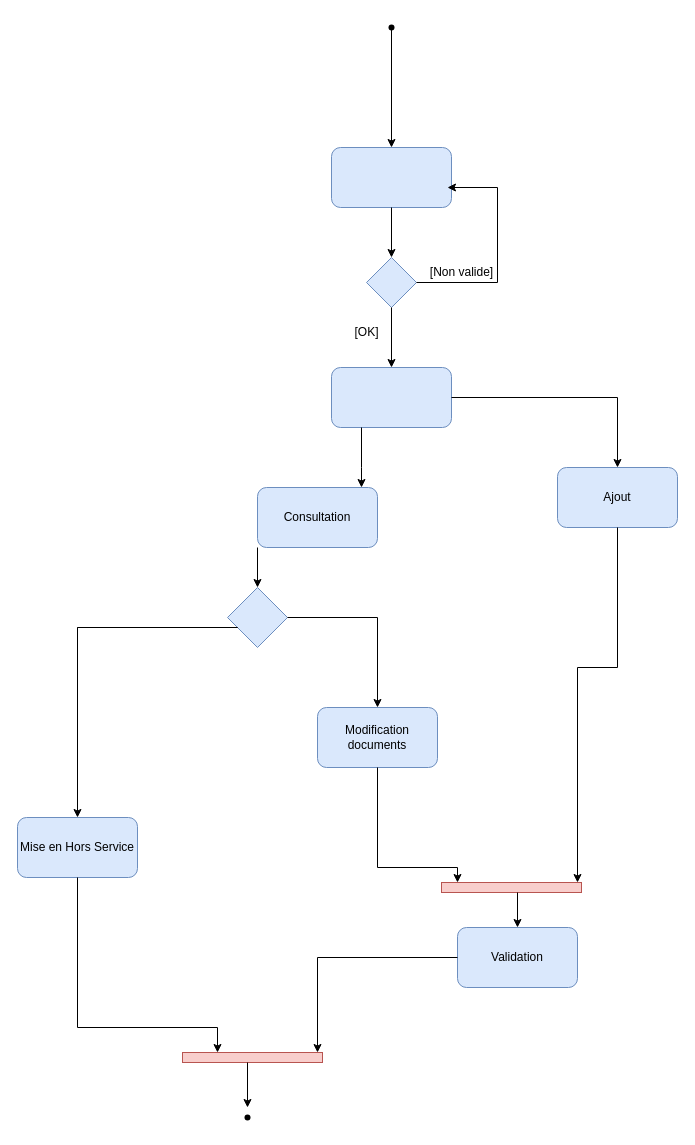
Some shapes in this 695 by 1145 pixel diagram are drawn without their labels. Here are the shapes that lost their labels. From the top down, the box of each, then its label:
(330, 146, 452, 208): Identification employer
(330, 366, 452, 428): Gestion de documents
